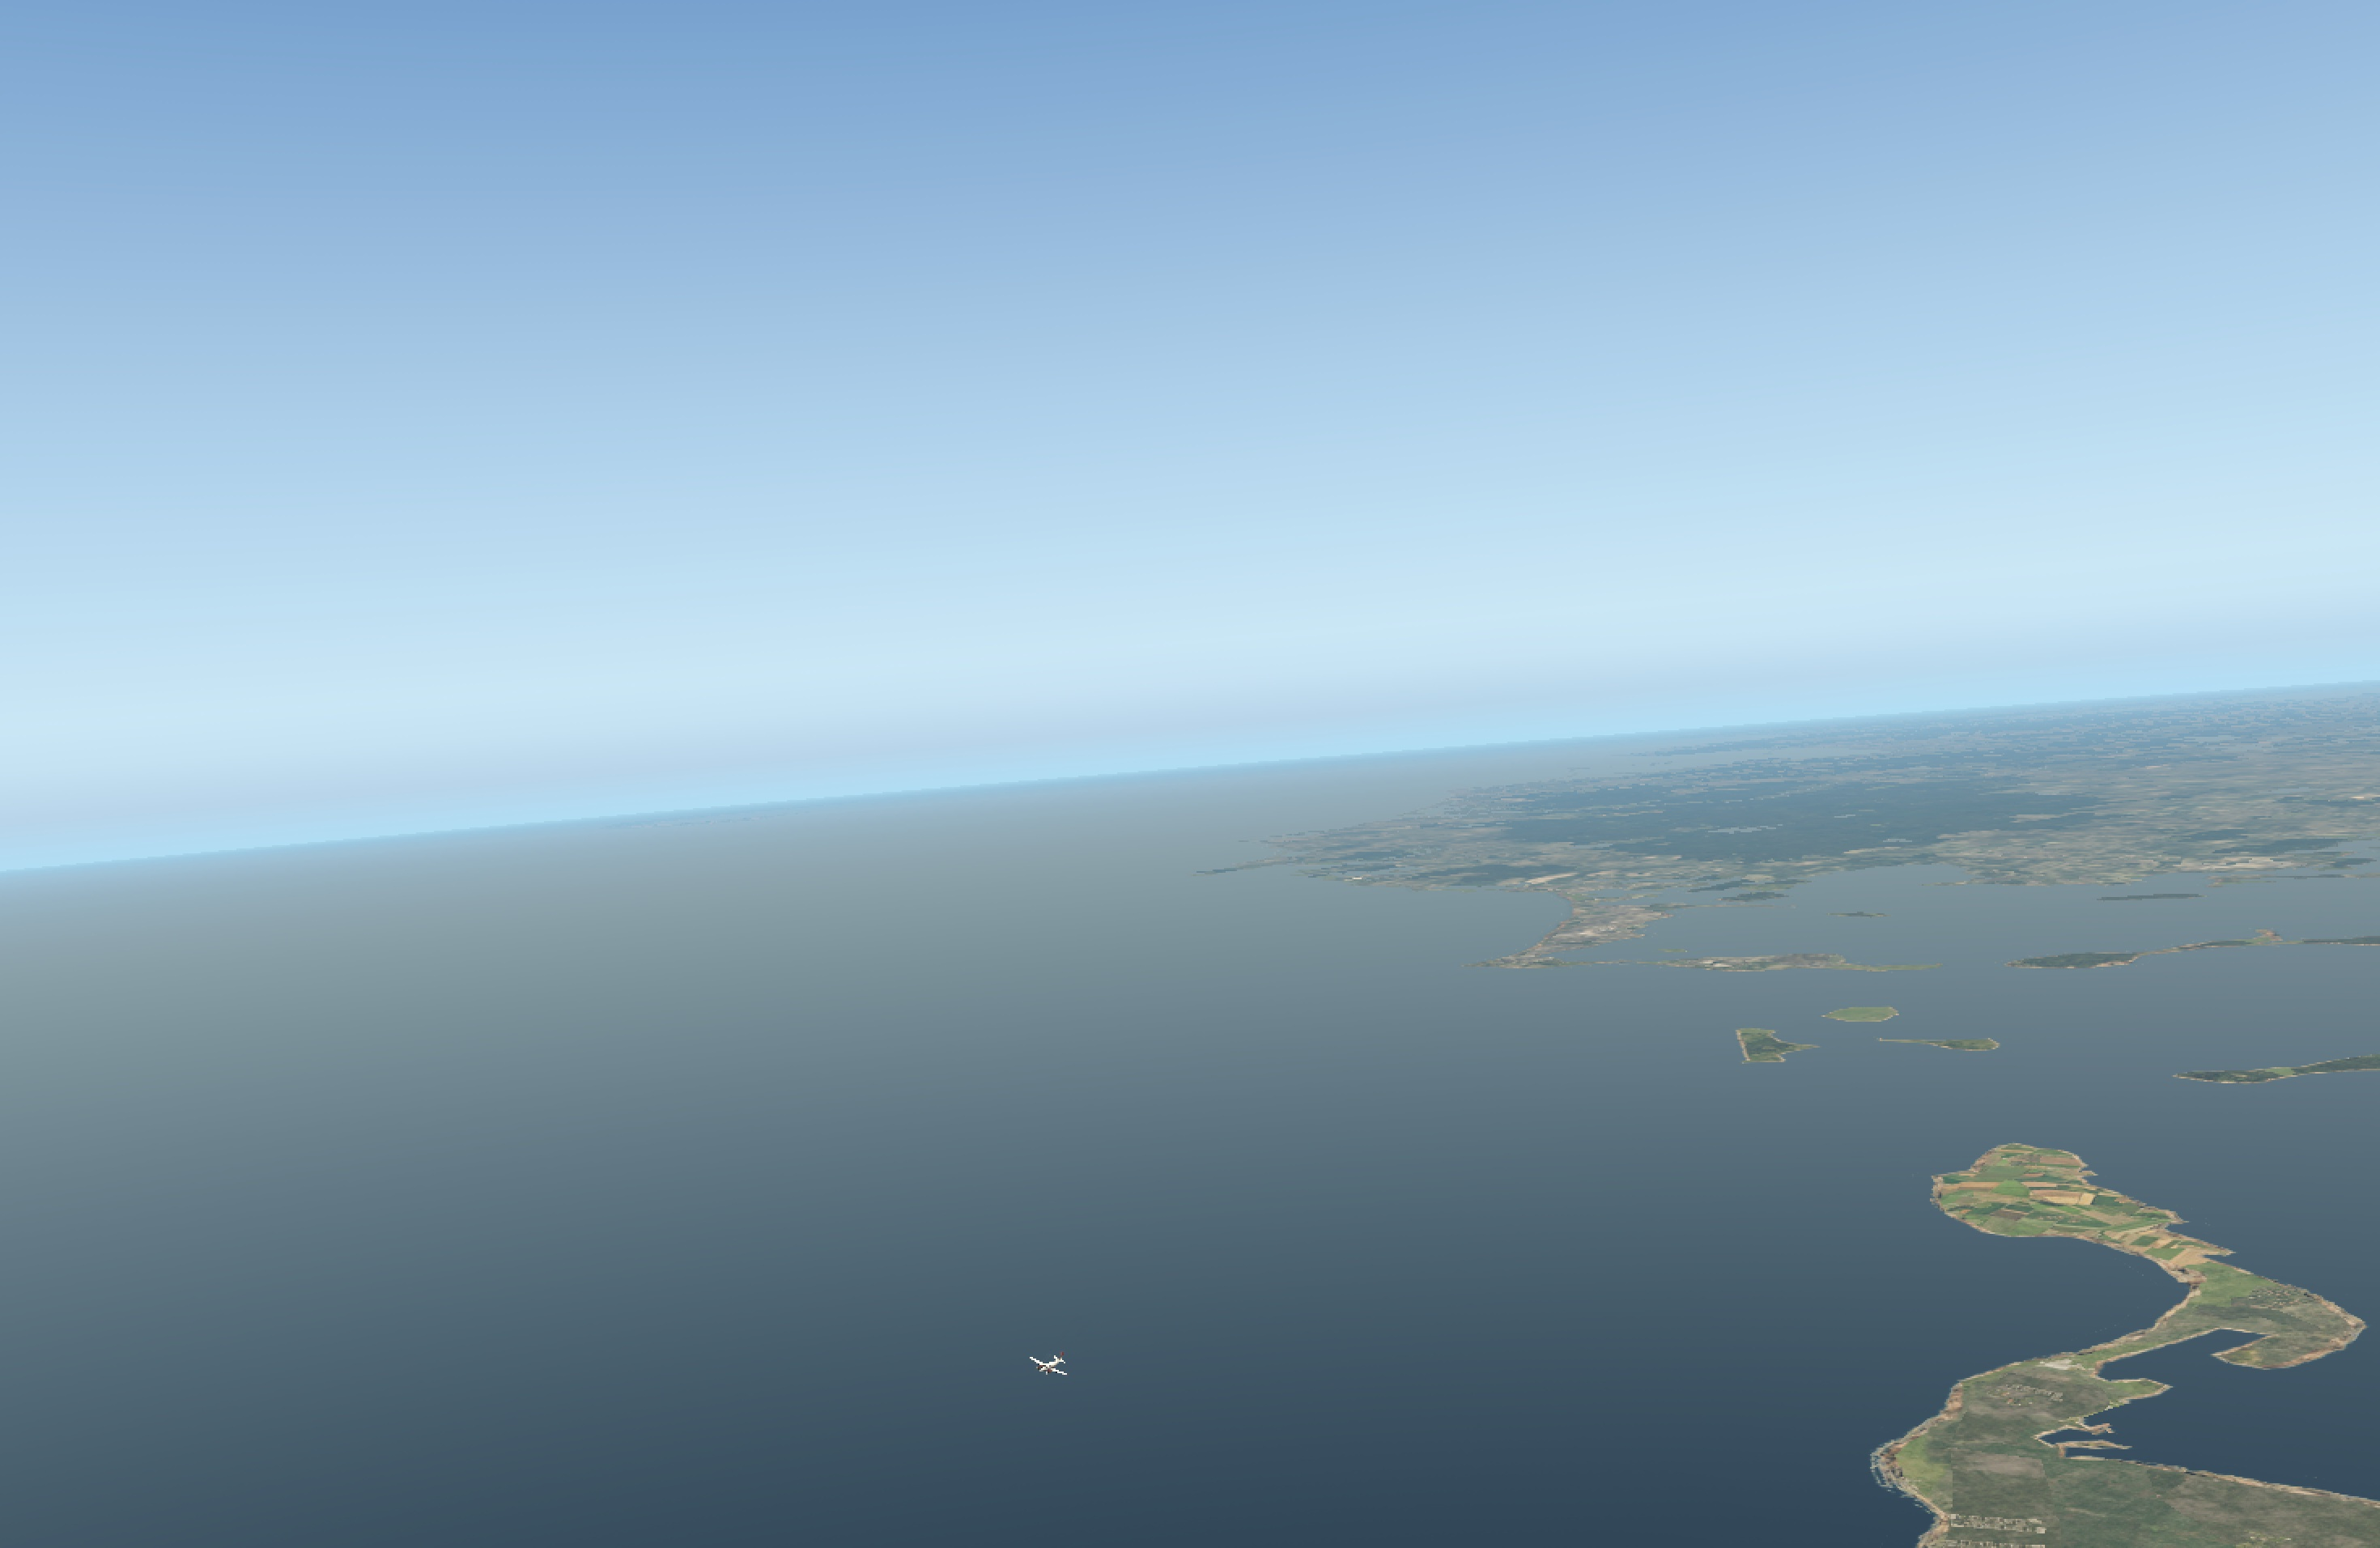aircraft: (1022, 1361, 1072, 1378)
